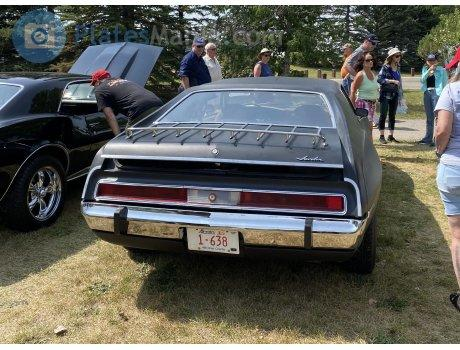licence: (183, 222, 245, 256)
